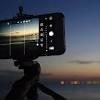Smartphone: (2, 19, 66, 56)
